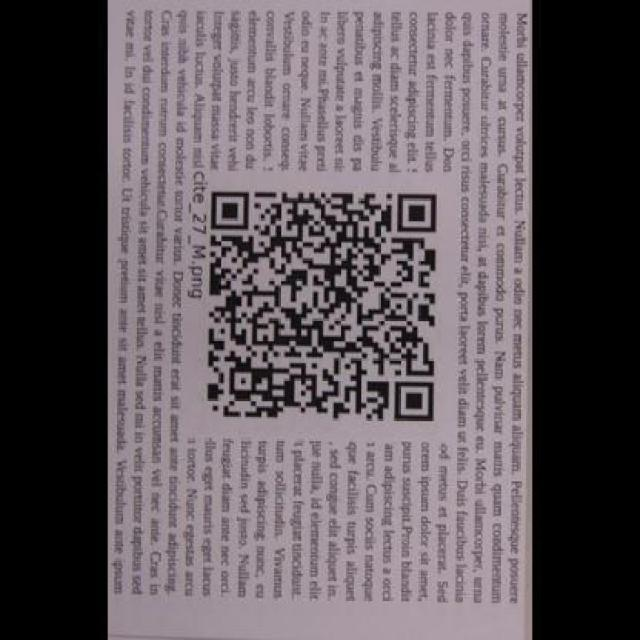QRCode: (206, 183, 441, 424)
